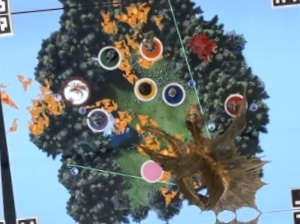blue: (160, 78, 187, 107)
green: (96, 41, 123, 70)
orange: (135, 32, 164, 60)
pink: (136, 155, 165, 185)
red: (222, 91, 247, 118)
violet: (83, 104, 113, 134)
yellow: (129, 73, 158, 101)
